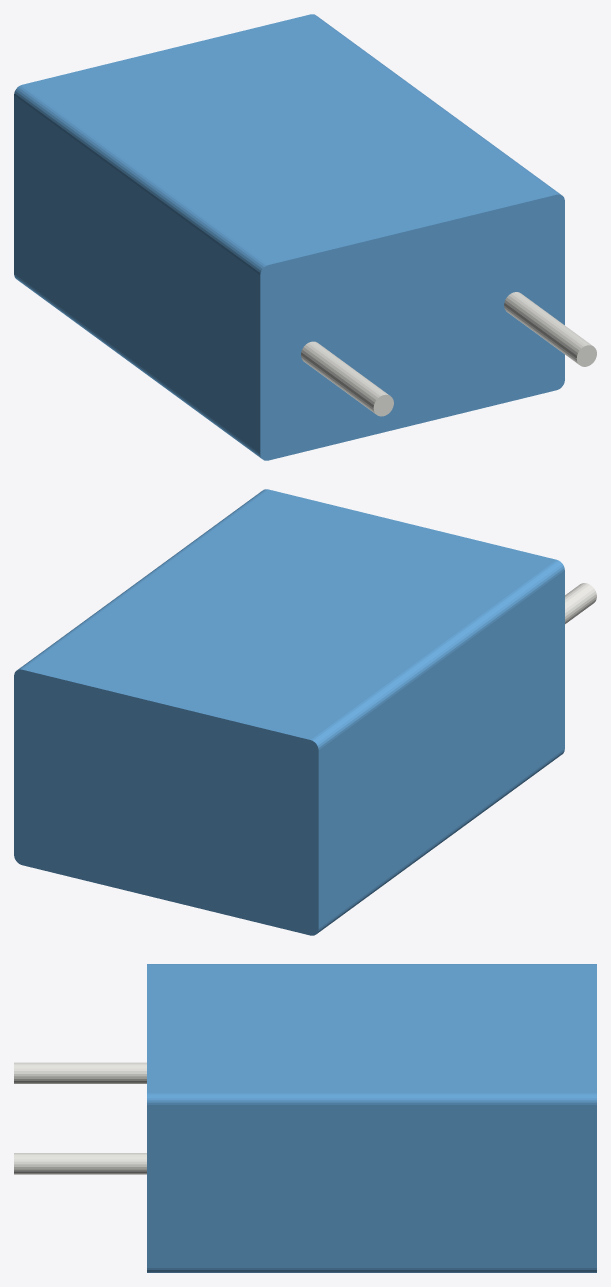
Rendered from L_Radial_L7.5mm_W4.6mm_P5.00mm_Neosid_SD75.glb.
3 renders of one model, top to bottom at view 1: azimuth 30°, elevation 25°; view 2: azimuth 150°, elevation 25°; view 3: azimuth 270°, elevation 25°, orthographic. The views are drawn at different scales.
Visible parts, largest first — view 1: Shape_IndexedFaceSet, Shape_IndexedFaceSet.001, Shape_IndexedFaceSet.006, Shape_IndexedFaceSet.003, Shape_IndexedFaceSet.011, Shape_IndexedFaceSet.010, Shape_IndexedFaceSet.008, Shape_IndexedFaceSet.002; view 2: Shape_IndexedFaceSet, Shape_IndexedFaceSet.004, Shape_IndexedFaceSet.006, Shape_IndexedFaceSet.003, Shape_IndexedFaceSet.008, Shape_IndexedFaceSet.002, Shape_IndexedFaceSet.010; view 3: Shape_IndexedFaceSet.005, Shape_IndexedFaceSet, Shape_IndexedFaceSet.002, Shape_IndexedFaceSet.010, Shape_IndexedFaceSet.011, Shape_IndexedFaceSet.007, Shape_IndexedFaceSet.003.
Part boxes in pixels (x1=…): Shape_IndexedFaceSet: x1=22, y1=14, x2=556, y2=264; Shape_IndexedFaceSet.001: x1=260, y1=194, x2=564, y2=460; Shape_IndexedFaceSet.006: x1=14, y1=95, x2=260, y2=453; Shape_IndexedFaceSet.003: x1=14, y1=85, x2=267, y2=274; Shape_IndexedFaceSet.011: x1=504, y1=292, x2=592, y2=364; Shape_IndexedFaceSet.010: x1=301, y1=341, x2=389, y2=413; Shape_IndexedFaceSet.008: x1=14, y1=274, x2=261, y2=458; Shape_IndexedFaceSet.002: x1=311, y1=14, x2=560, y2=194; Shape_IndexedFaceSet: x1=22, y1=489, x2=556, y2=739; Shape_IndexedFaceSet.004: x1=14, y1=669, x2=318, y2=935; Shape_IndexedFaceSet.006: x1=318, y1=570, x2=564, y2=928; Shape_IndexedFaceSet.003: x1=311, y1=560, x2=564, y2=749; Shape_IndexedFaceSet.008: x1=317, y1=749, x2=564, y2=933; Shape_IndexedFaceSet.002: x1=18, y1=489, x2=267, y2=669; Shape_IndexedFaceSet.010: x1=565, y1=583, x2=596, y2=623; Shape_IndexedFaceSet.005: x1=147, y1=1105, x2=596, y2=1267; Shape_IndexedFaceSet: x1=147, y1=964, x2=596, y2=1093; Shape_IndexedFaceSet.002: x1=147, y1=1093, x2=596, y2=1104; Shape_IndexedFaceSet.010: x1=14, y1=1062, x2=146, y2=1083; Shape_IndexedFaceSet.011: x1=14, y1=1153, x2=146, y2=1174; Shape_IndexedFaceSet.007: x1=147, y1=1268, x2=596, y2=1272; Shape_IndexedFaceSet.003: x1=147, y1=964, x2=596, y2=964.
Bounding box in the file's own units: 2.95 × 1.81 × 5.35.
